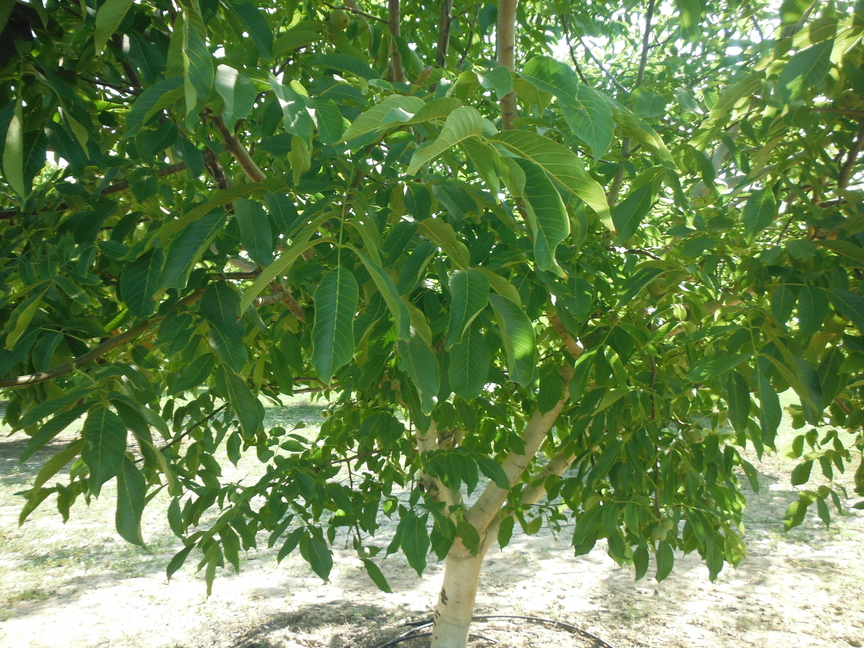walnut: (327, 4, 351, 33), (648, 275, 671, 295), (686, 426, 707, 445), (650, 524, 669, 543), (839, 87, 855, 108), (353, 544, 373, 560), (621, 234, 637, 252), (600, 226, 615, 245), (660, 515, 676, 531), (231, 169, 246, 184), (855, 88, 864, 112), (702, 497, 717, 511), (679, 424, 692, 440), (646, 289, 664, 300), (226, 490, 240, 504), (244, 172, 255, 187), (325, 405, 335, 418), (697, 491, 707, 504), (317, 407, 328, 418)
